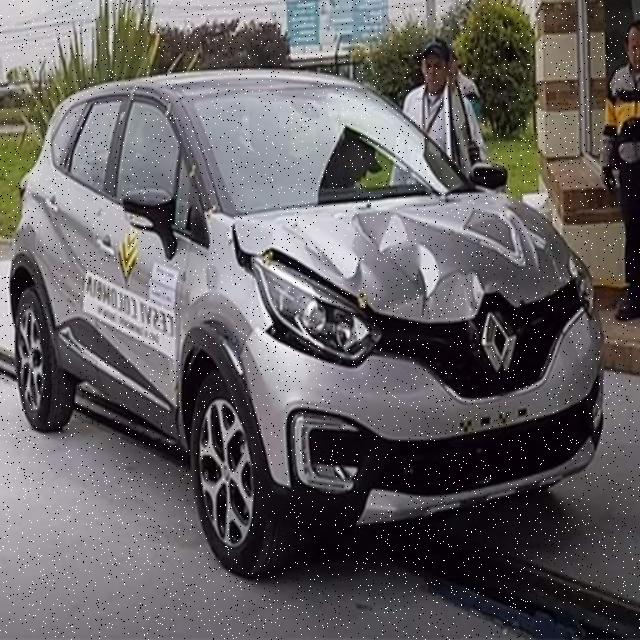damage: (234, 193, 572, 319)
